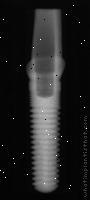Implant Direct: (21, 9, 68, 194)
